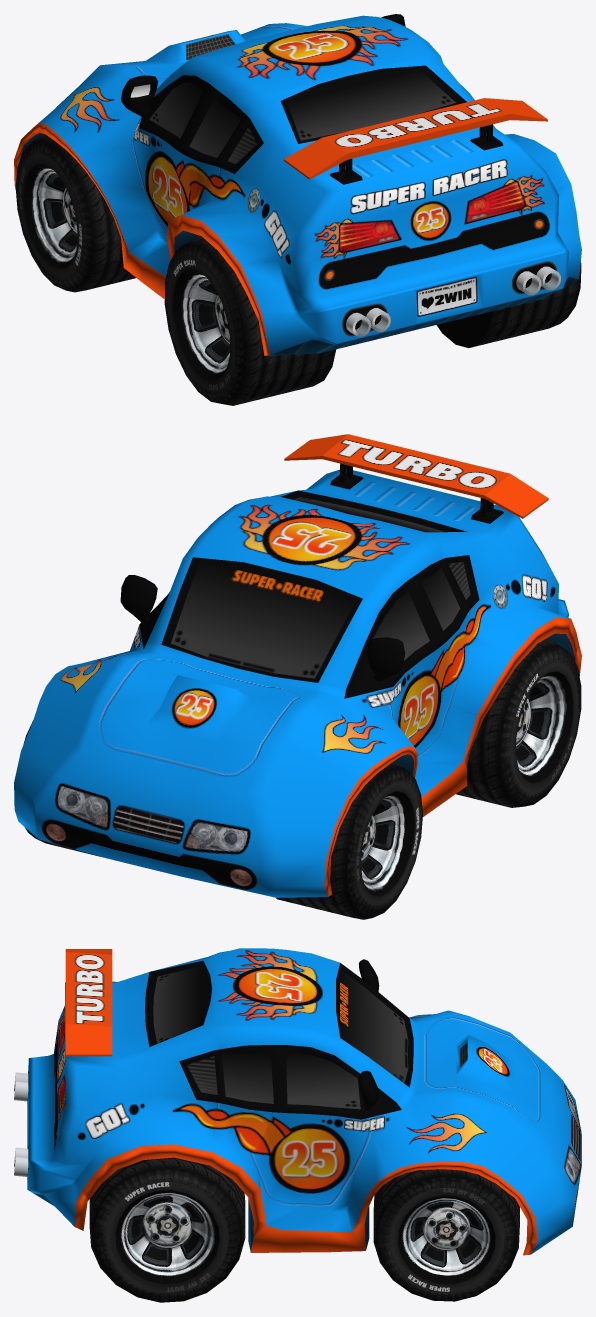
Rendered from ToonSportsCar_02.fbx.
3 renders of one model, top to bottom at view 1: azimuth 30°, elevation 25°; view 2: azimuth 150°, elevation 25°; view 3: azimuth 270°, elevation 25°, orthographic. The views are drawn at different scales.
Parts seen in each view (by area): view 1: BodyTransform, TireBackLeftTransform, TireFrontLeftTransform, SpoilerTransform, TireBackRightTransform, muffler1, MirrorsTransform; view 2: BodyTransform, TireBackLeftTransform, TireFrontLeftTransform, SpoilerTransform, MirrorsTransform; view 3: BodyTransform, TireBackRightTransform, TireFrontRightTransform, SpoilerTransform, MirrorsTransform, muffler1.
Boxes of the visible parts, x1,y1,x2,y2 form: BodyTransform: (14, 15, 581, 355); TireBackLeftTransform: (164, 236, 336, 405); TireFrontLeftTransform: (15, 135, 135, 292); SpoilerTransform: (284, 98, 547, 184); TireBackRightTransform: (436, 262, 581, 348); muffler1: (346, 266, 560, 336); MirrorsTransform: (121, 14, 405, 117); BodyTransform: (14, 469, 581, 897); TireBackLeftTransform: (456, 639, 581, 807); TireFrontLeftTransform: (276, 762, 422, 919); SpoilerTransform: (284, 434, 548, 523); MirrorsTransform: (120, 575, 404, 681); BodyTransform: (27, 948, 581, 1255); TireBackRightTransform: (89, 1157, 245, 1302); TireFrontRightTransform: (373, 1169, 519, 1301); SpoilerTransform: (65, 949, 112, 1056); MirrorsTransform: (358, 959, 379, 1110); muffler1: (14, 1072, 28, 1176).
Size of the model in its own units: 27.22 by 20.67 by 43.03.
